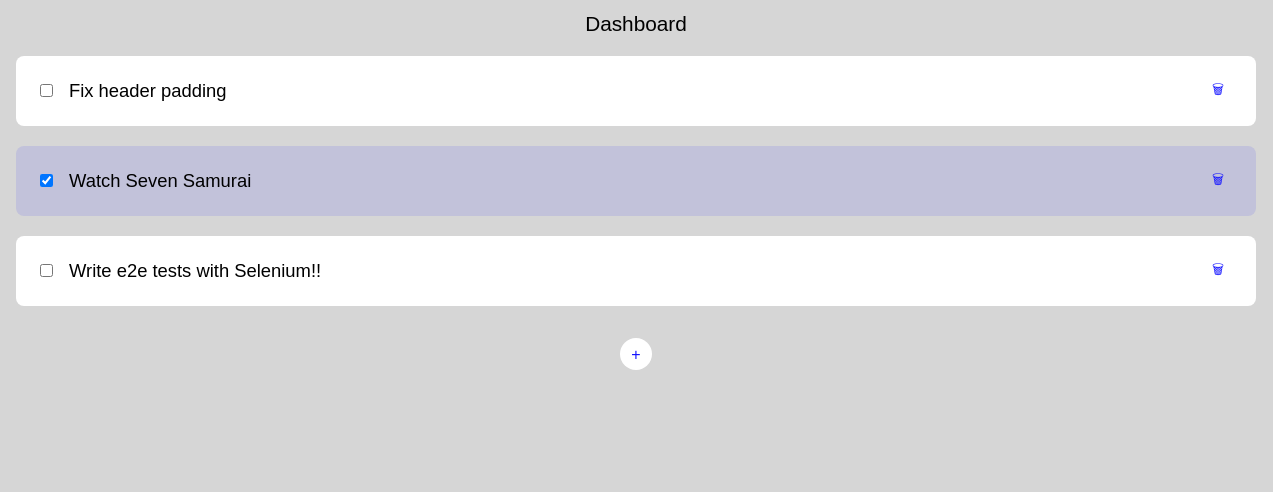
Test: Create todo › caretes/shows new todo when users submit new todo
The image size is (1273, 492).
Click the button "+" at (636, 354), box [620,338,652,370]
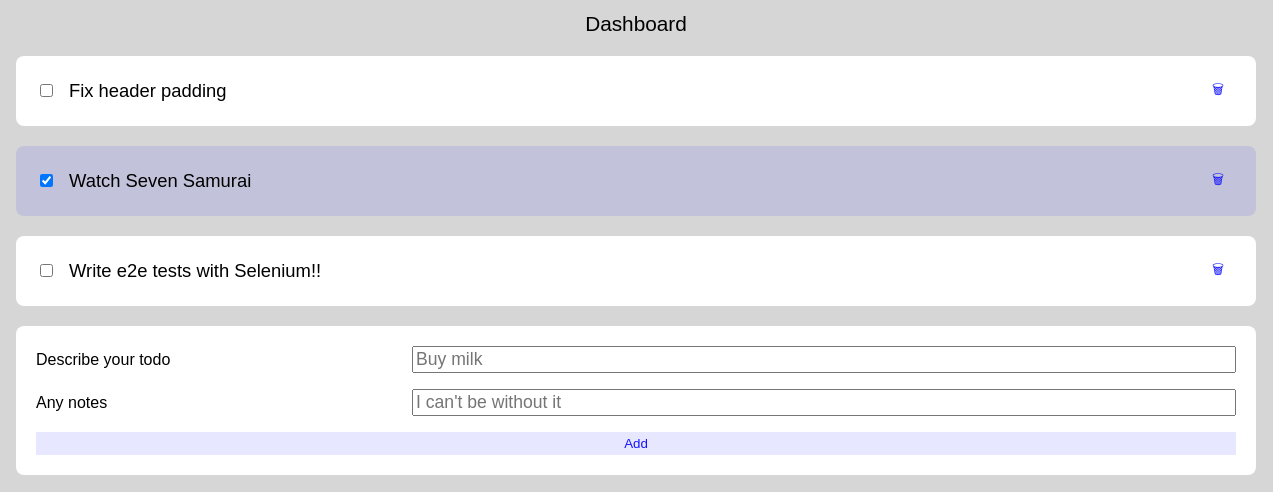
Now the field labelled "Any notes" is shown, box [412,389,1236,416]
Type "test add-todo feature" into the field labelled "Describe your todo" at (824, 360), box [412,346,1236,373]
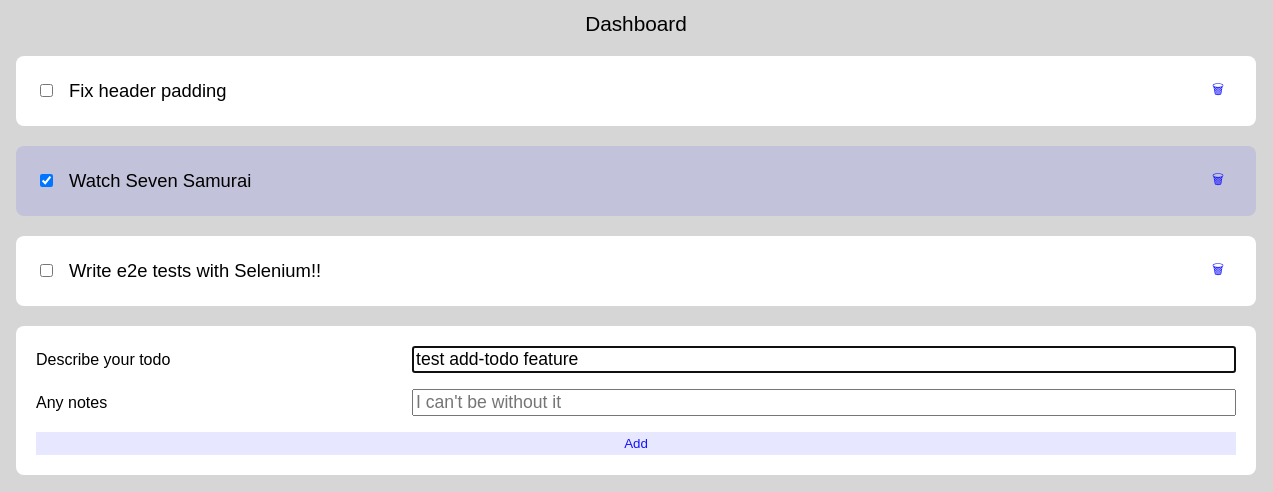
Type "see if it works!" into the field labelled "Any notes" at (824, 402), box [412,389,1236,416]
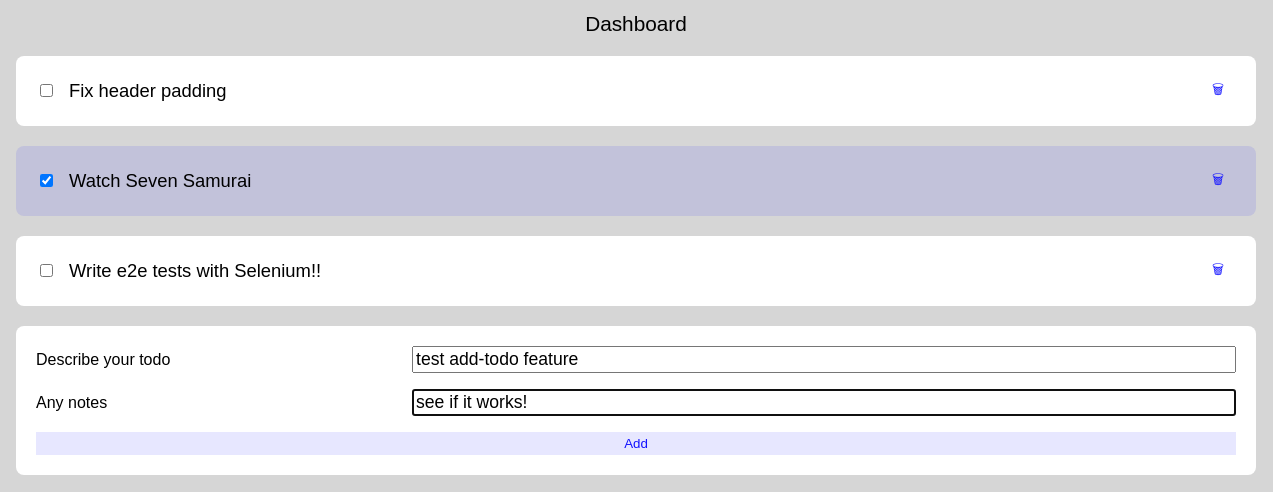
Click the button "Add" at (636, 444), box [36,432,1236,455]
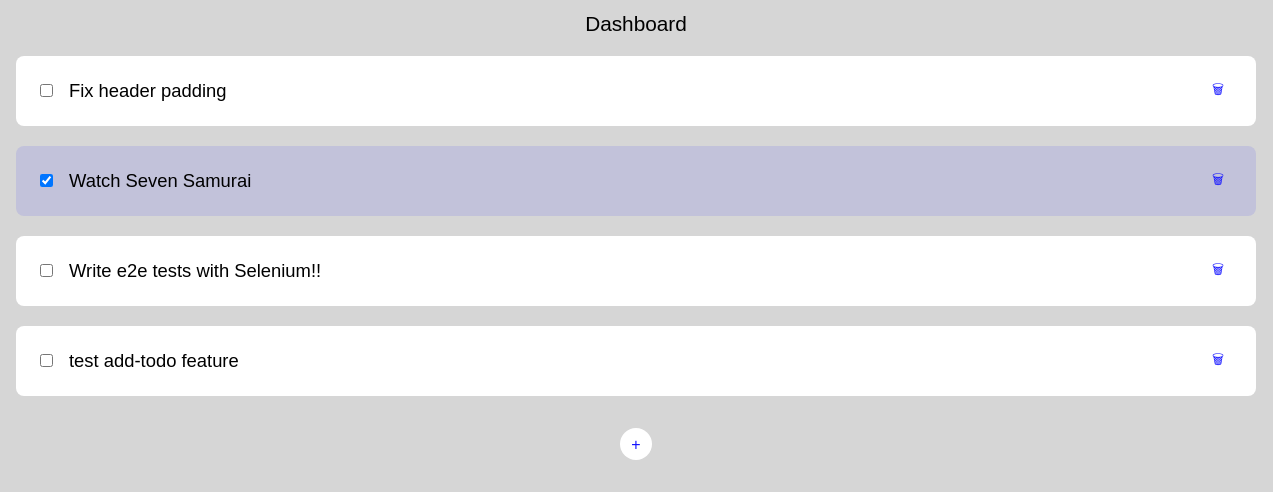
Now the button "+" is shown, box [620,428,652,460]
Now the link "test add-todo feature" is shown, box [69,350,239,371]
